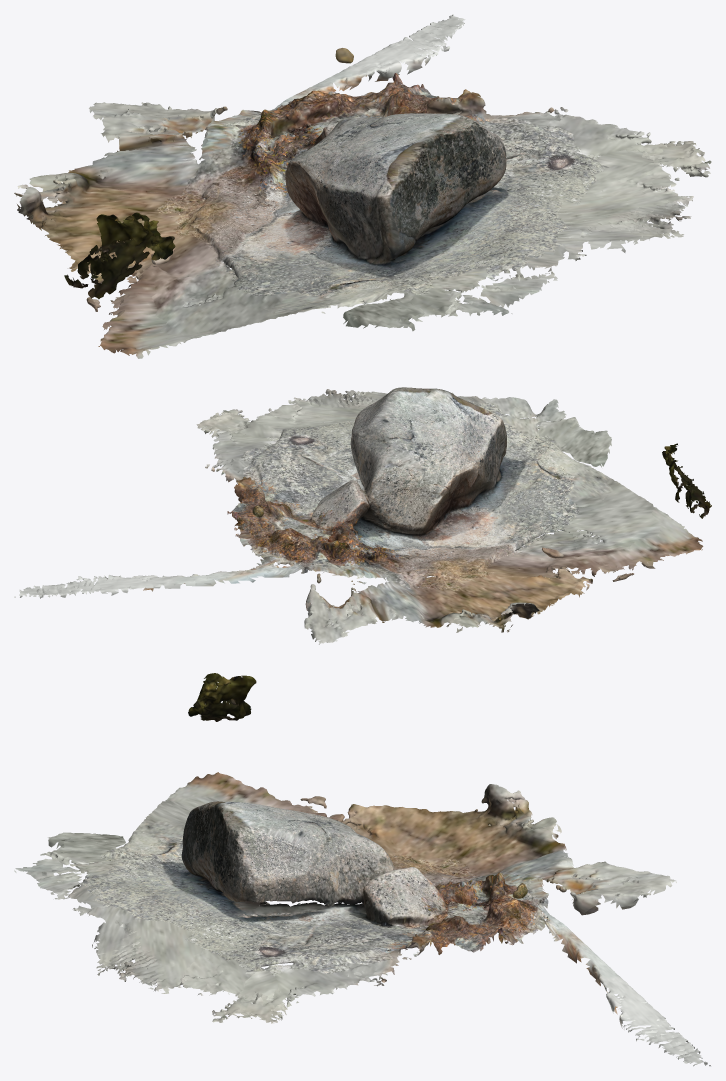
File: 20220511-1332_Summer_Solstice.glb
The picture shows the model from 3 angles, top to bottom: view 1: azimuth 30°, elevation 25°; view 2: azimuth 150°, elevation 25°; view 3: azimuth 270°, elevation 25°; orthographic projection. The views are drawn at different scales.
Parts seen in each view (by area): view 1: Summer_Solstice_; view 2: Summer_Solstice_; view 3: Summer_Solstice_.
Boxes of the visible parts, x1,y1,x2,y2 form: Summer_Solstice_: (14, 14, 711, 358); Summer_Solstice_: (14, 387, 711, 644); Summer_Solstice_: (14, 673, 710, 1066).
Size of the model in its own units: 8.04 by 1.74 by 8.23.
1 material, 1 textured.
